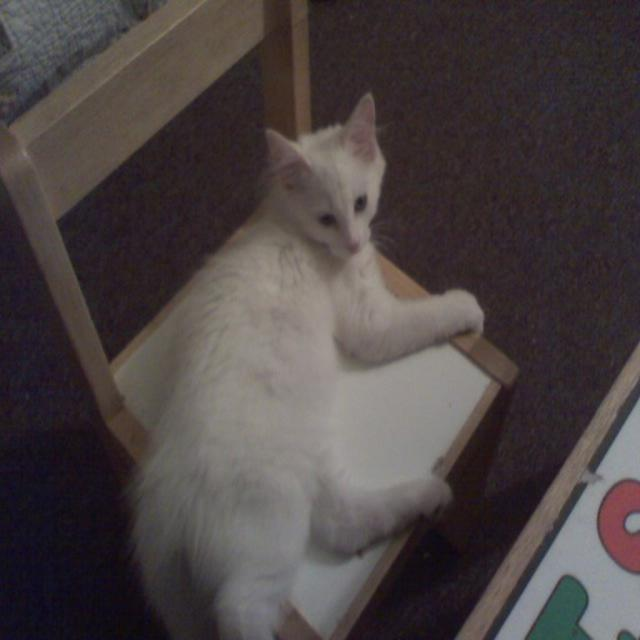Cat: (122, 90, 484, 638)
